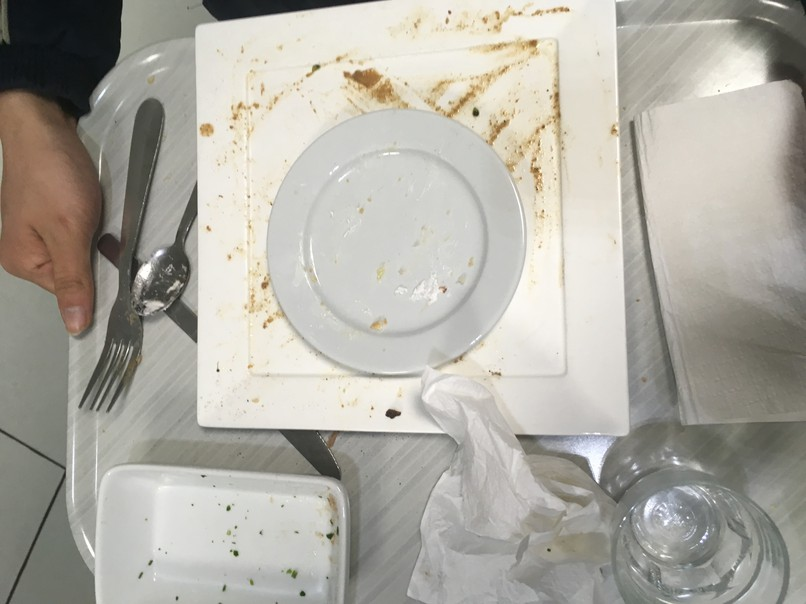cup: (618, 473, 806, 593)
cutlery: (79, 101, 196, 444)
trash: (630, 84, 806, 425), (412, 367, 617, 604)
